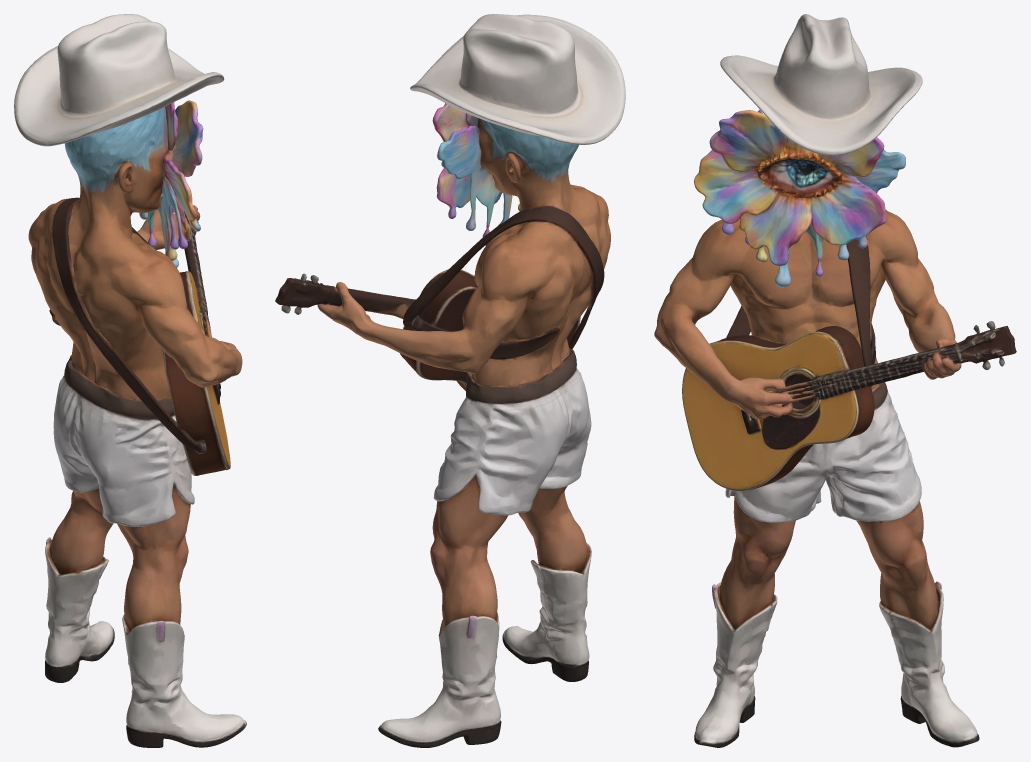
File: oy_cowboy.glb
3 renders of one model, left to right at view 1: azimuth 30°, elevation 25°; view 2: azimuth 150°, elevation 25°; view 3: azimuth 270°, elevation 25°, orthographic.
Parts seen in each view (by area): view 1: tripo_node_eee1fd30-80a5-4dde-97fa-25f22d2ec0d8; view 2: tripo_node_eee1fd30-80a5-4dde-97fa-25f22d2ec0d8; view 3: tripo_node_eee1fd30-80a5-4dde-97fa-25f22d2ec0d8.
Boxes of the visible parts, x1,y1,x2,y2 form: tripo_node_eee1fd30-80a5-4dde-97fa-25f22d2ec0d8: (14, 14, 246, 747); tripo_node_eee1fd30-80a5-4dde-97fa-25f22d2ec0d8: (275, 14, 625, 747); tripo_node_eee1fd30-80a5-4dde-97fa-25f22d2ec0d8: (654, 14, 1016, 747).
Bounding box in the file's own units: 0.3682 × 1 × 0.4725.
Materials: 1 (1 with a texture image).
